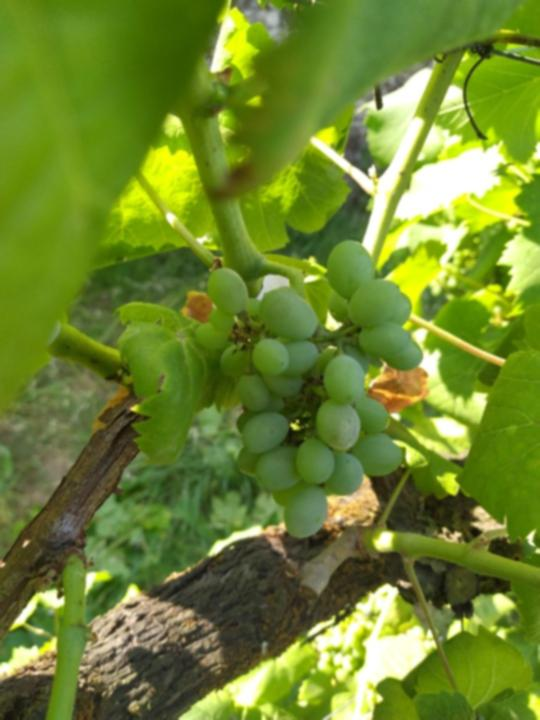grape: (188, 237, 427, 540)
